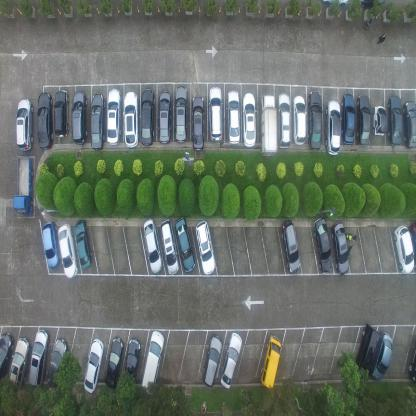car: (140, 329, 164, 397), (355, 323, 382, 382), (27, 329, 50, 390), (7, 335, 30, 394), (259, 333, 282, 390), (220, 330, 242, 389), (13, 155, 34, 216), (142, 218, 164, 275), (46, 338, 70, 390), (174, 216, 196, 272), (57, 223, 79, 279), (370, 330, 394, 381), (195, 218, 216, 275), (83, 337, 104, 394), (121, 337, 141, 396), (260, 93, 278, 158), (202, 333, 223, 388), (393, 224, 415, 275), (160, 218, 180, 274), (314, 216, 333, 274), (280, 219, 300, 274), (15, 96, 34, 152), (122, 91, 140, 148), (105, 337, 124, 389), (37, 90, 53, 150), (332, 221, 349, 276), (42, 220, 61, 269), (307, 90, 322, 152), (90, 92, 106, 150), (140, 87, 155, 148), (241, 91, 257, 148), (207, 86, 223, 143), (325, 99, 341, 156), (74, 219, 92, 269), (173, 85, 188, 144), (107, 87, 122, 146), (226, 89, 241, 146), (157, 90, 172, 146), (72, 89, 87, 144), (54, 89, 70, 140), (191, 94, 205, 152), (0, 331, 15, 384), (356, 94, 371, 146), (388, 94, 403, 146), (292, 94, 307, 145), (341, 93, 355, 146), (278, 93, 291, 149), (404, 98, 416, 149), (372, 104, 387, 138), (408, 343, 415, 385)
